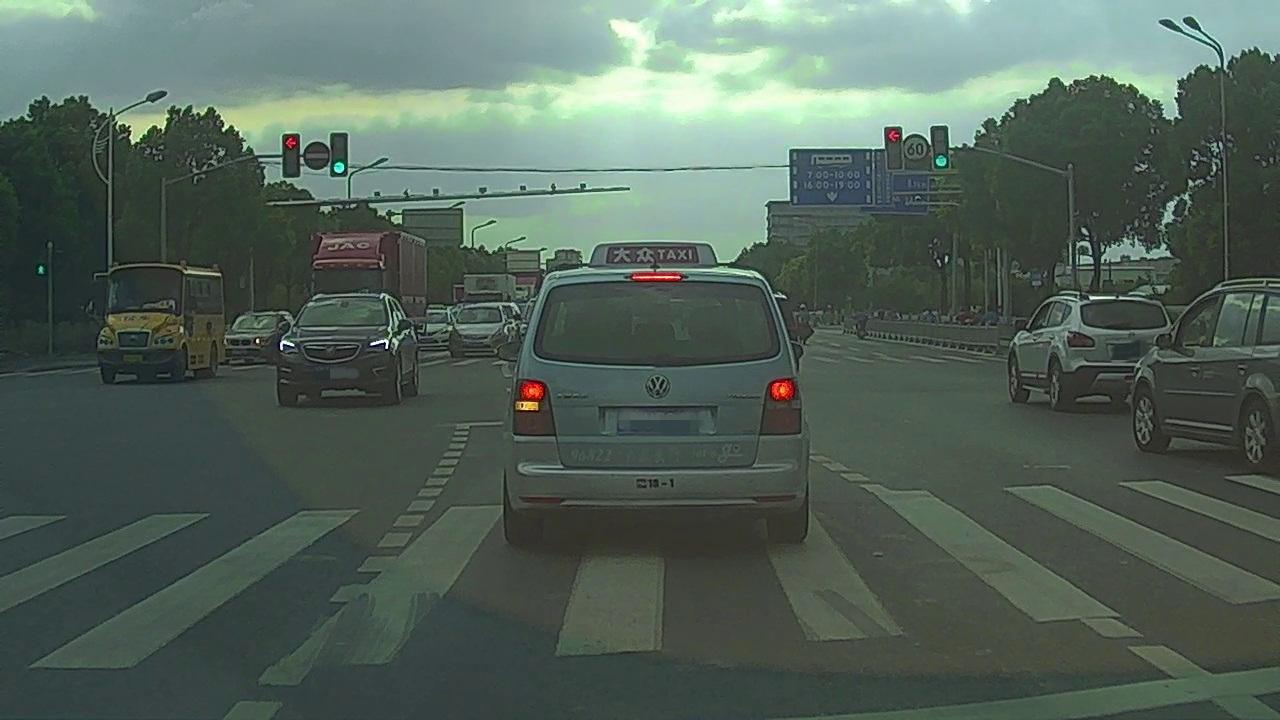traffic_light: (929, 125, 949, 168), (283, 135, 300, 180), (885, 127, 903, 168), (332, 133, 347, 177)
